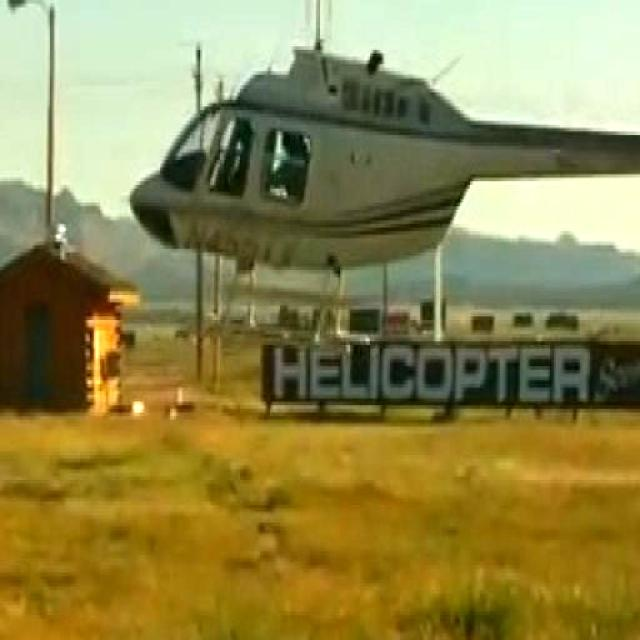drone: (102, 0, 640, 365)
